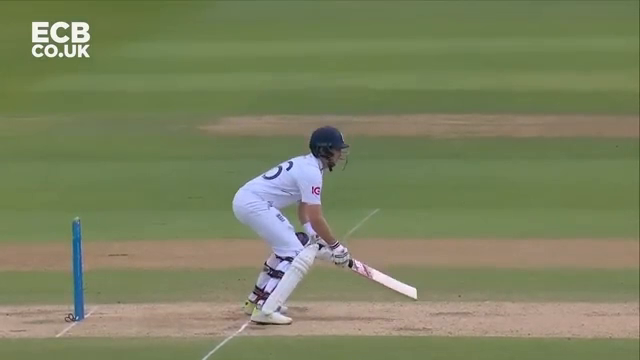batsman: (232, 127, 420, 320)
